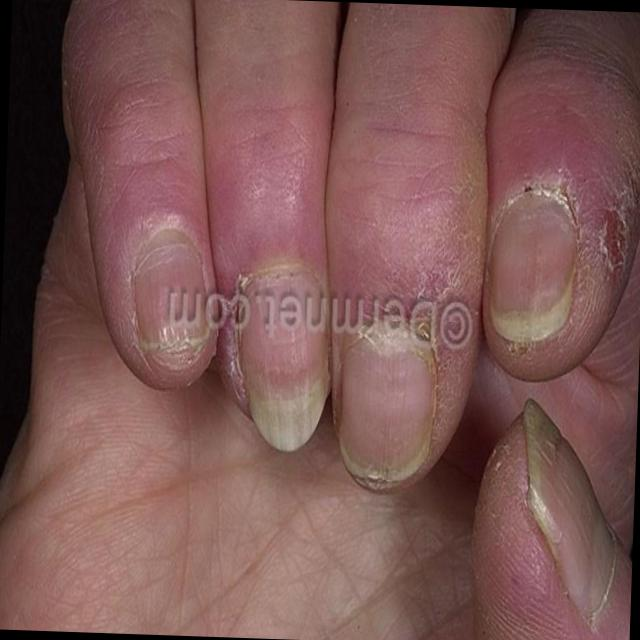Nail: (521, 397, 616, 619), (231, 261, 329, 449), (335, 323, 437, 477), (488, 185, 577, 334), (131, 228, 206, 352)
